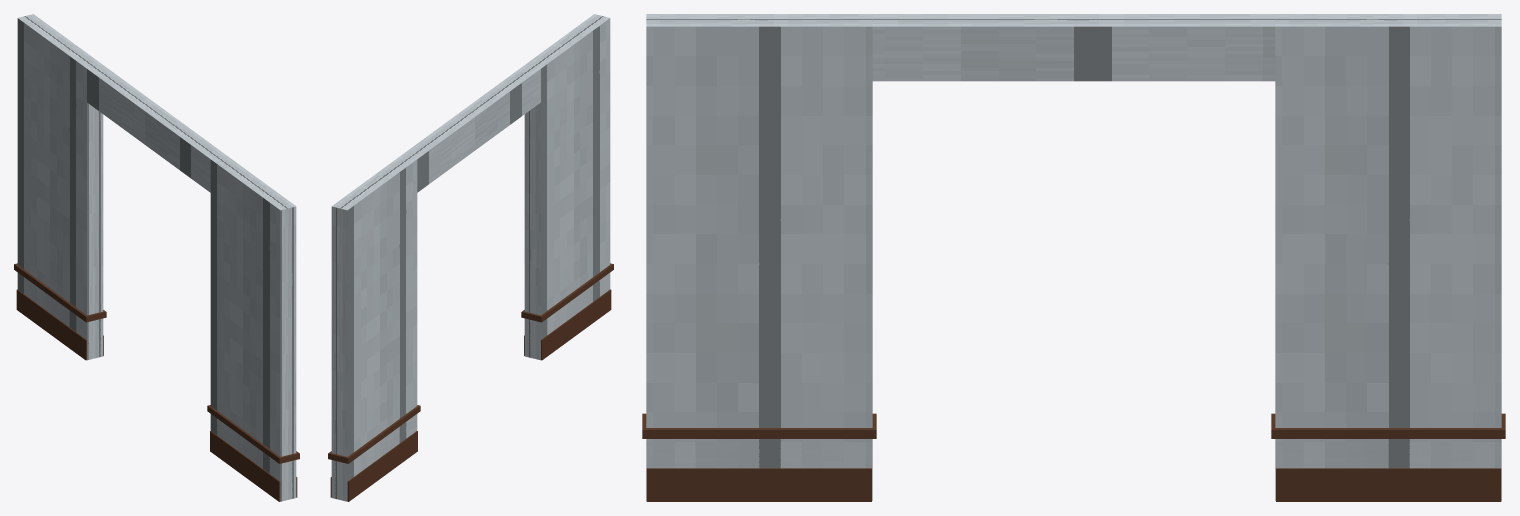
Rendered from living_dining.glb.
The picture shows the model from 3 angles, left to right: view 1: azimuth 30°, elevation 25°; view 2: azimuth 150°, elevation 25°; view 3: azimuth 270°, elevation 25°; orthographic projection. The views are drawn at different scales.
Visible parts, largest first — view 1: Box3, Box1, Box5, Box4, Box2, Box6, Box8, Box9, Box7; view 2: Box1, Box3, Box5, Box2, Box4, Box6, Box8, Box7, Box9; view 3: Box3, Box1, Box5, Box2, Box4, Box8, Box6, Box7, Box9.
Part boxes in pixels (<box>): Box3: <box>210,155,296,501</box>; Box1: <box>17,14,103,360</box>; Box5: <box>87,65,226,192</box>; Box4: <box>210,431,297,501</box>; Box2: <box>16,289,103,360</box>; Box6: <box>18,282,103,359</box>; Box8: <box>210,414,296,501</box>; Box9: <box>207,405,299,463</box>; Box7: <box>14,263,106,322</box>; Box1: <box>331,155,417,501</box>; Box3: <box>524,14,610,360</box>; Box5: <box>401,65,540,192</box>; Box2: <box>330,431,417,501</box>; Box4: <box>524,289,611,360</box>; Box6: <box>331,414,417,501</box>; Box8: <box>524,284,606,359</box>; Box7: <box>328,405,420,463</box>; Box9: <box>521,263,613,322</box>; Box3: <box>646,14,872,500</box>; Box1: <box>1275,14,1501,500</box>; Box5: <box>872,14,1275,81</box>; Box2: <box>1276,468,1501,501</box>; Box4: <box>646,468,871,501</box>; Box8: <box>646,439,872,498</box>; Box6: <box>1275,439,1501,500</box>; Box7: <box>1271,413,1505,438</box>; Box9: <box>642,413,876,438</box>.
Bounding box in the file's own units: 0.19 × 2.6 × 4.29.
Materials: 2 (1 with a texture image).
